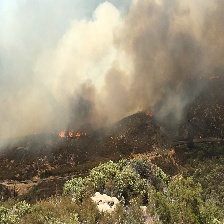fire: (59, 129, 83, 140), (142, 108, 155, 121)
smoke: (6, 3, 224, 128)
